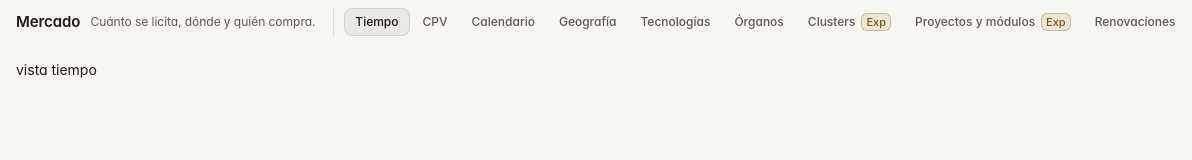
Test: SpaceShell › pulsar una pestaña la activa sin navegar: URL → `useSearchParams` → conmutador
Click the tab "CPV": {"x": 435, "y": 22} [412,8,458,36]
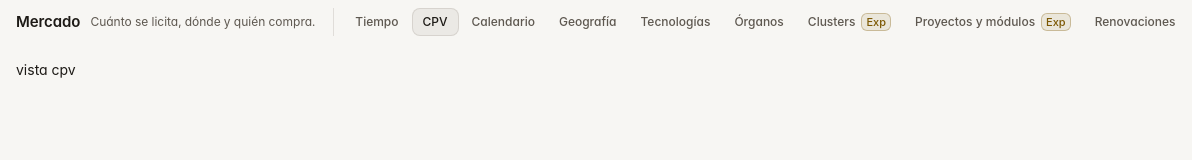
Expected: the text "vista cpv" is shown, [16,61,76,78]
